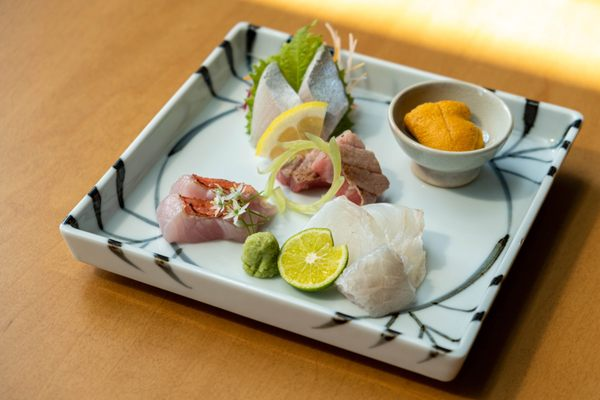sushi: (388, 79, 513, 187)
taco: (278, 227, 348, 292), (254, 100, 328, 157)
